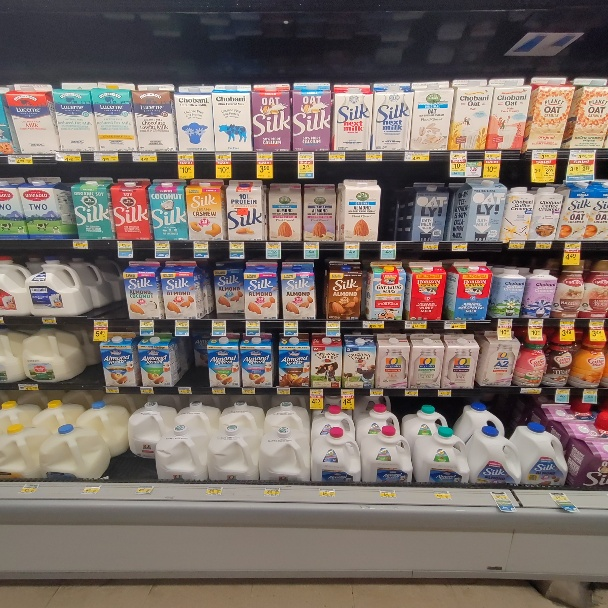All PRICE TAGS: (571, 149, 596, 159), (533, 150, 556, 160), (405, 151, 430, 160), (94, 152, 118, 161), (7, 155, 31, 164), (132, 153, 157, 161), (56, 153, 81, 161), (21, 483, 37, 494), (207, 485, 222, 496), (550, 493, 570, 501), (362, 321, 384, 328), (19, 383, 38, 391), (491, 492, 510, 500), (319, 488, 334, 498), (405, 321, 426, 328), (445, 321, 465, 328), (485, 151, 502, 159), (177, 152, 194, 160), (265, 487, 280, 496), (422, 242, 438, 250), (83, 485, 99, 493), (329, 153, 345, 161), (298, 153, 314, 161), (380, 489, 394, 498), (452, 242, 467, 250), (117, 240, 132, 248), (451, 151, 466, 159), (367, 152, 382, 160), (257, 152, 272, 160), (137, 485, 152, 493), (435, 491, 450, 499), (536, 241, 551, 249), (380, 242, 397, 249), (404, 389, 418, 397), (212, 320, 226, 328), (344, 242, 360, 249), (303, 242, 319, 249), (266, 242, 282, 249), (590, 319, 604, 327), (510, 241, 524, 249), (566, 242, 582, 249), (139, 320, 154, 327), (93, 319, 108, 326), (229, 242, 244, 249), (193, 242, 208, 249), (73, 241, 88, 248), (216, 153, 231, 160), (584, 389, 599, 396), (439, 389, 452, 397), (370, 388, 383, 396), (140, 387, 153, 395), (521, 388, 541, 393), (340, 388, 354, 395), (245, 320, 259, 327), (175, 320, 189, 327), (155, 241, 169, 248), (557, 388, 571, 395), (560, 319, 574, 326), (106, 386, 118, 394), (309, 388, 322, 395), (242, 387, 255, 394), (212, 387, 225, 394), (178, 387, 191, 394), (284, 320, 297, 327), (529, 319, 542, 326), (499, 318, 512, 325), (326, 321, 340, 327), (42, 318, 56, 324), (277, 388, 289, 394)
